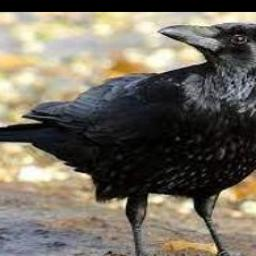Crow: (0, 22, 256, 256)
